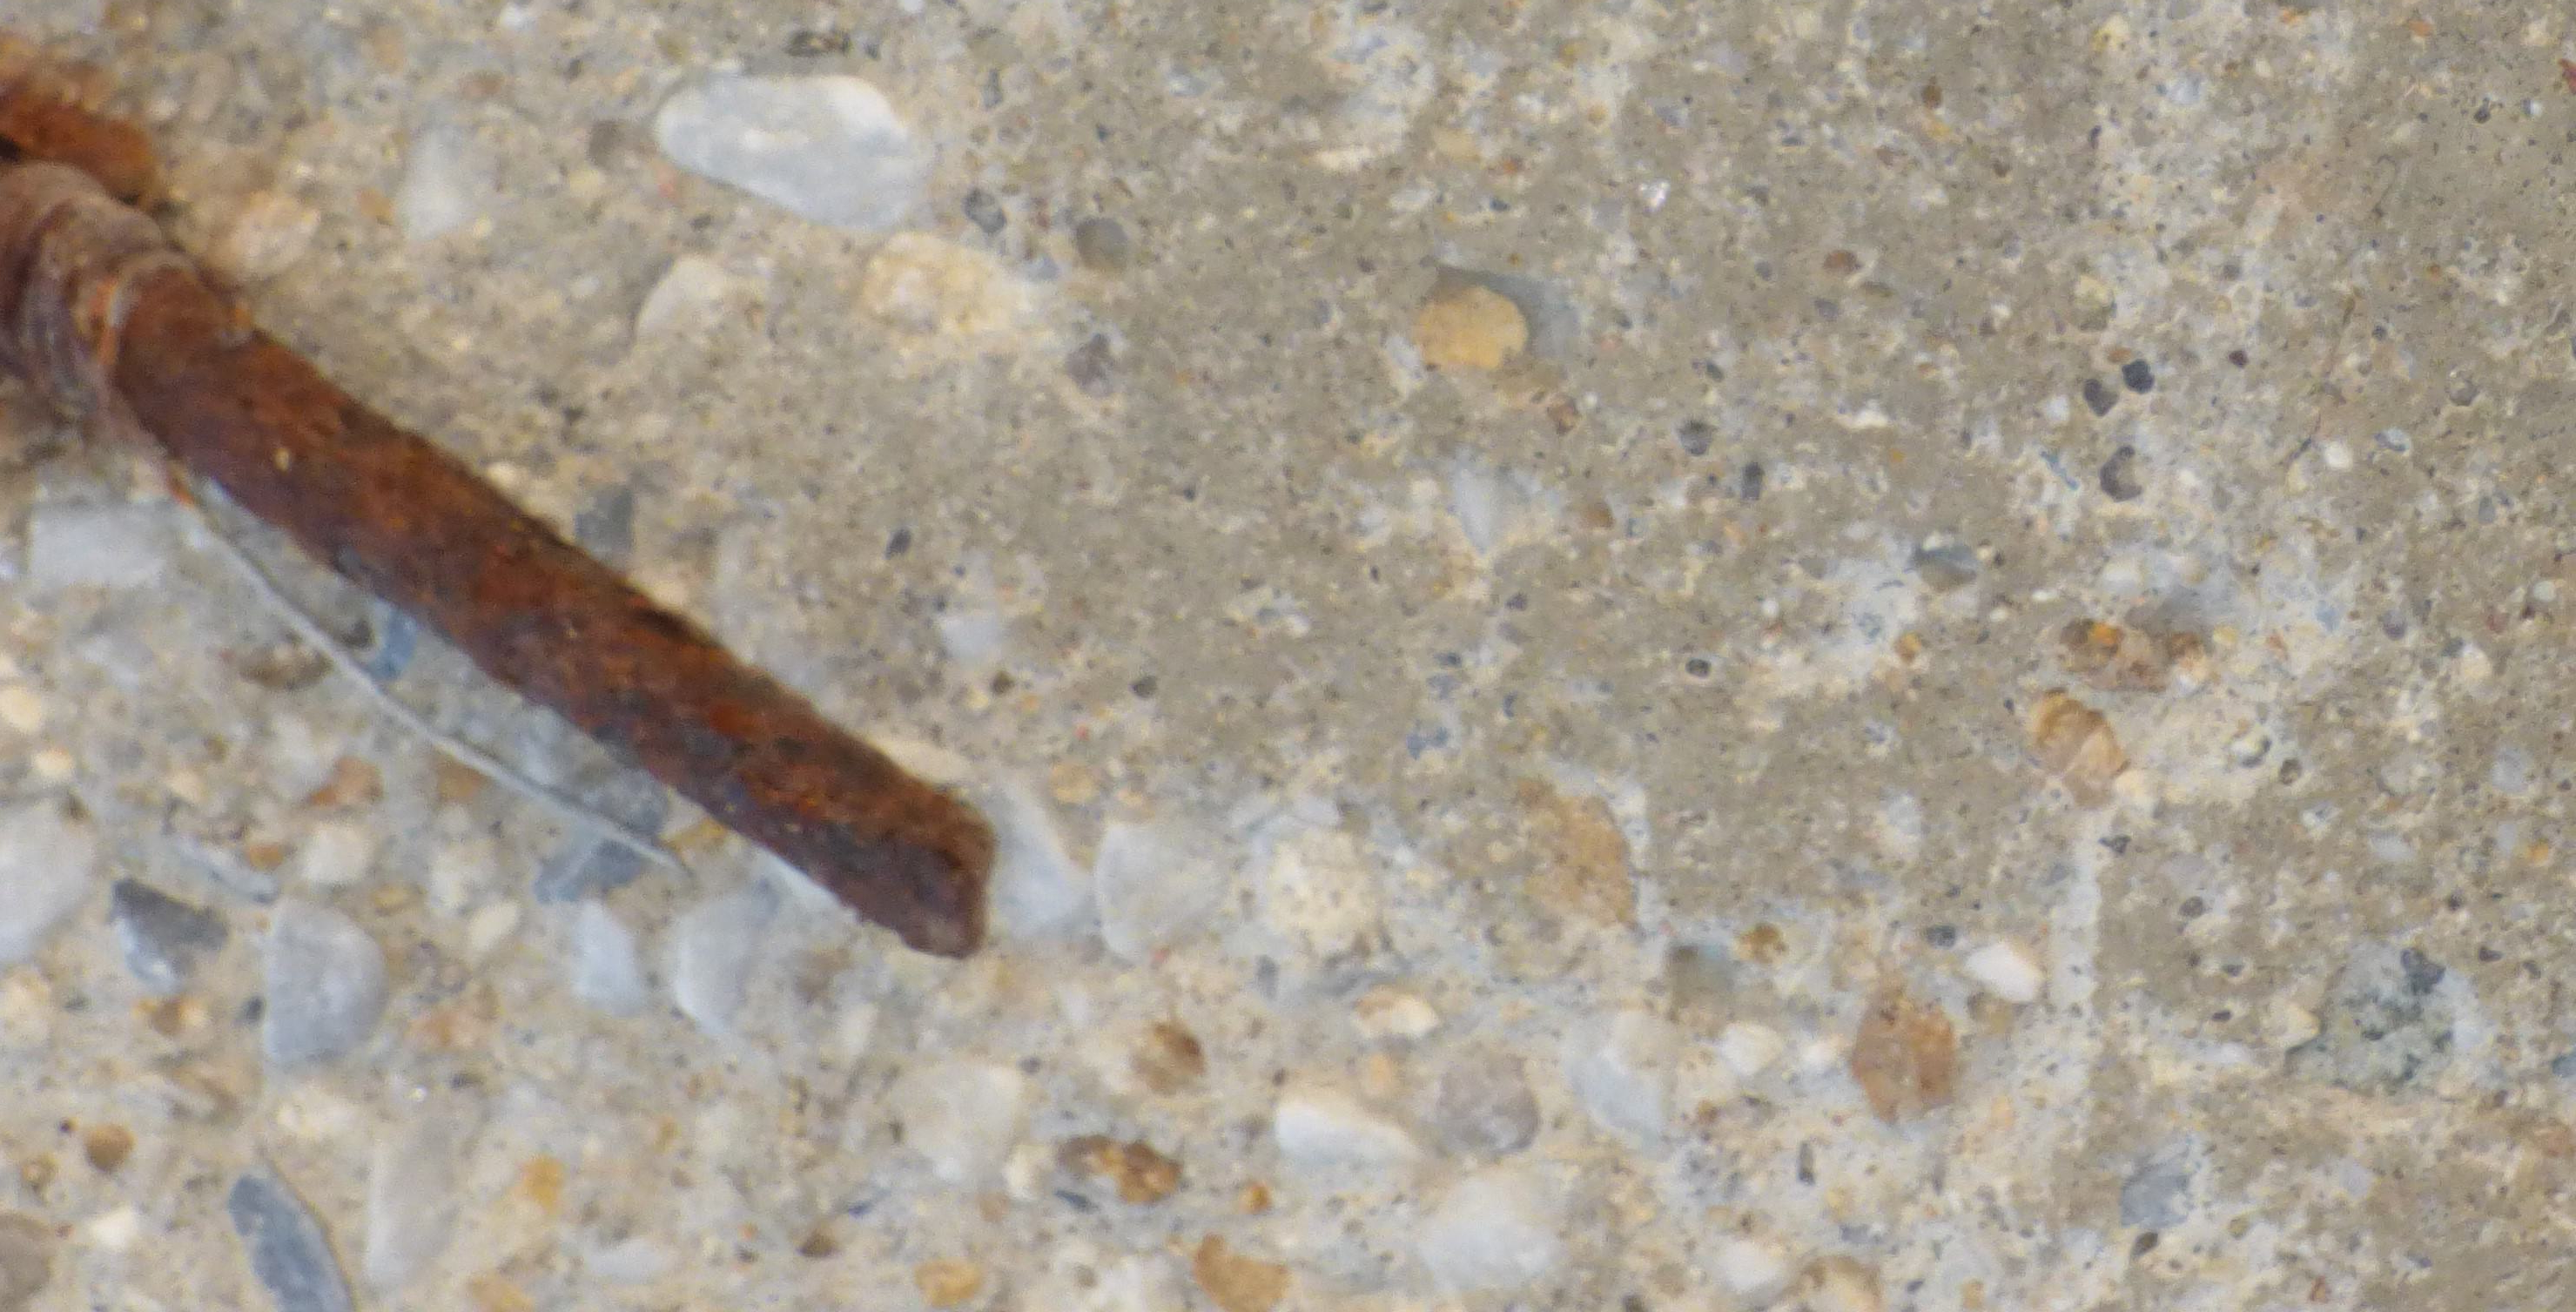Exposed reinforcement: (2, 161, 997, 961)
